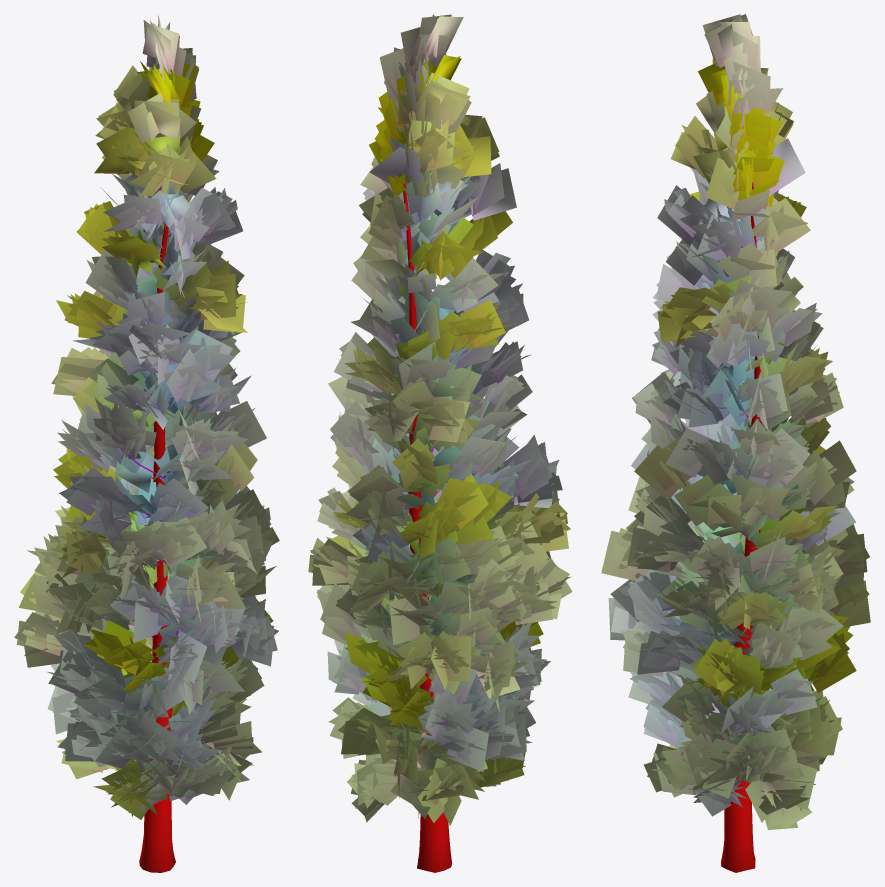
Rendered from poplar_a.glb.
3 renders of one model, left to right at view 1: azimuth 30°, elevation 25°; view 2: azimuth 150°, elevation 25°; view 3: azimuth 270°, elevation 25°, orthographic.
Visible parts, largest first — view 1: poplar_a; view 2: poplar_a; view 3: poplar_a.
Boxes of the visible parts, box(x1,y1,x2,y2) form: poplar_a: box(14, 15, 279, 872); poplar_a: box(308, 14, 572, 872); poplar_a: box(601, 14, 870, 872).
Bounding box in the file's own units: 6.75 × 23.55 × 6.79.
